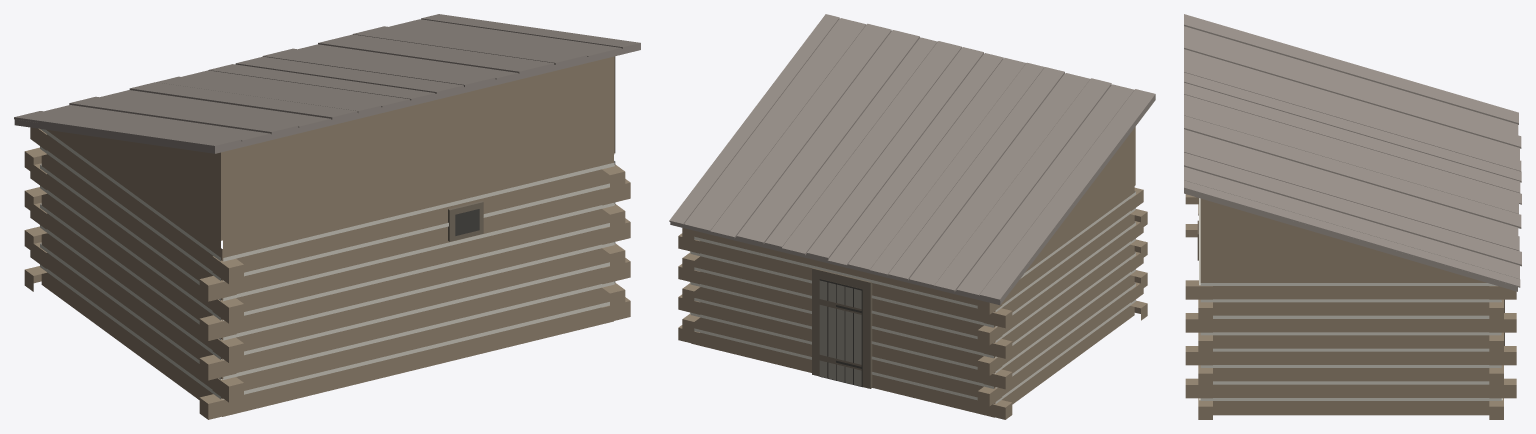
The model's file is beaubien_trading_post__log_1822.glb.
The picture shows the model from 3 angles, left to right: view 1: azimuth 30°, elevation 25°; view 2: azimuth 150°, elevation 25°; view 3: azimuth 270°, elevation 25°; orthographic projection. The views are drawn at different scales.
Parts seen in each view (by area): view 1: beaubien_trading_post__log_1822; view 2: beaubien_trading_post__log_1822; view 3: beaubien_trading_post__log_1822.
Boxes of the visible parts, x1,y1,x2,y2 form: beaubien_trading_post__log_1822: (14,14,640,419); beaubien_trading_post__log_1822: (669,14,1155,419); beaubien_trading_post__log_1822: (1184,14,1521,419).
Size of the model in its own units: 6.63 by 4.21 by 5.47.
